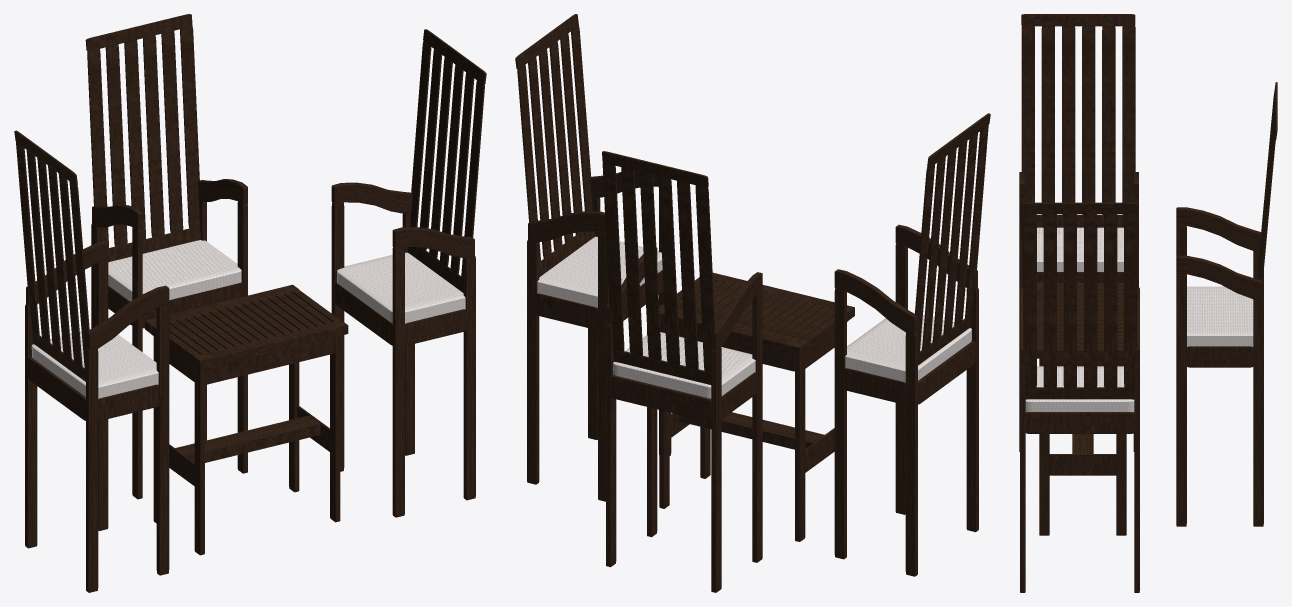
File: the_backrooms_chairs.glb
3 views of the same model, side by side, from view 1: azimuth 30°, elevation 25°; view 2: azimuth 150°, elevation 25°; view 3: azimuth 270°, elevation 25° (orthographic). The views are drawn at different scales.
Parts seen in each view (by area): view 1: Cube.011, Cube.026, Cube.055, Cube.038, Cube, Cube.015, Cube.044, Cube.052, Cube.021, Cube.051, Cube.017, Cube.041 (+30 smaller); view 2: Cube.011, Cube.026, Cube.055, Cube.038, Cube.044, Cube.050, Cube, Cube.046, Cube.015, Cube.022, Cube.008, Cube.007 (+28 smaller); view 3: Cube.055, Cube.026, Cube, Cube.006, Cube.002, Cube.019, Cube.015, Cube.038, Cube.013, Cube.014, Cube.044, Cube.040 (+14 smaller).
Boxes of the visible parts, x1,y1,x2,y2 form: Cube.011: (87, 26, 199, 248); Cube.026: (410, 41, 484, 278); Cube.055: (16, 142, 89, 370); Cube.038: (150, 289, 340, 365); Cube: (108, 240, 241, 301); Cube.015: (337, 252, 465, 323); Cube.044: (31, 328, 158, 398); Cube.052: (156, 305, 169, 575); Cube.021: (392, 247, 404, 517); Cube.051: (86, 349, 98, 592); Cube.017: (463, 256, 475, 500); Cube.041: (175, 415, 320, 462); Cube.011: (602, 162, 715, 373); Cube.026: (517, 25, 592, 262); Cube.055: (914, 125, 988, 354); Cube.038: (659, 277, 847, 352); Cube.044: (845, 312, 971, 382); Cube.050: (834, 288, 846, 559); Cube: (613, 332, 755, 398); Cube.046: (905, 332, 917, 576); Cube.015: (537, 236, 662, 307); Cube.022: (527, 240, 539, 484); Cube.008: (752, 290, 762, 562); Cube.007: (711, 348, 721, 592); Cube.055: (1021, 25, 1135, 215); Cube.026: (1023, 213, 1137, 388); Cube: (1187, 286, 1253, 346); Cube.006: (1176, 274, 1186, 526); Cube.002: (1253, 297, 1263, 526); Cube.019: (1025, 412, 1134, 433); Cube.015: (1025, 366, 1134, 412); Cube.038: (1041, 283, 1123, 359); Cube.013: (1176, 255, 1262, 299); Cube.014: (1176, 207, 1261, 251); Cube.044: (1037, 227, 1123, 271); Cube.040: (1049, 454, 1116, 475).
Bounding box in the file's own units: 14.67 × 14.28 × 8.45.
2 materials, 2 textured.
